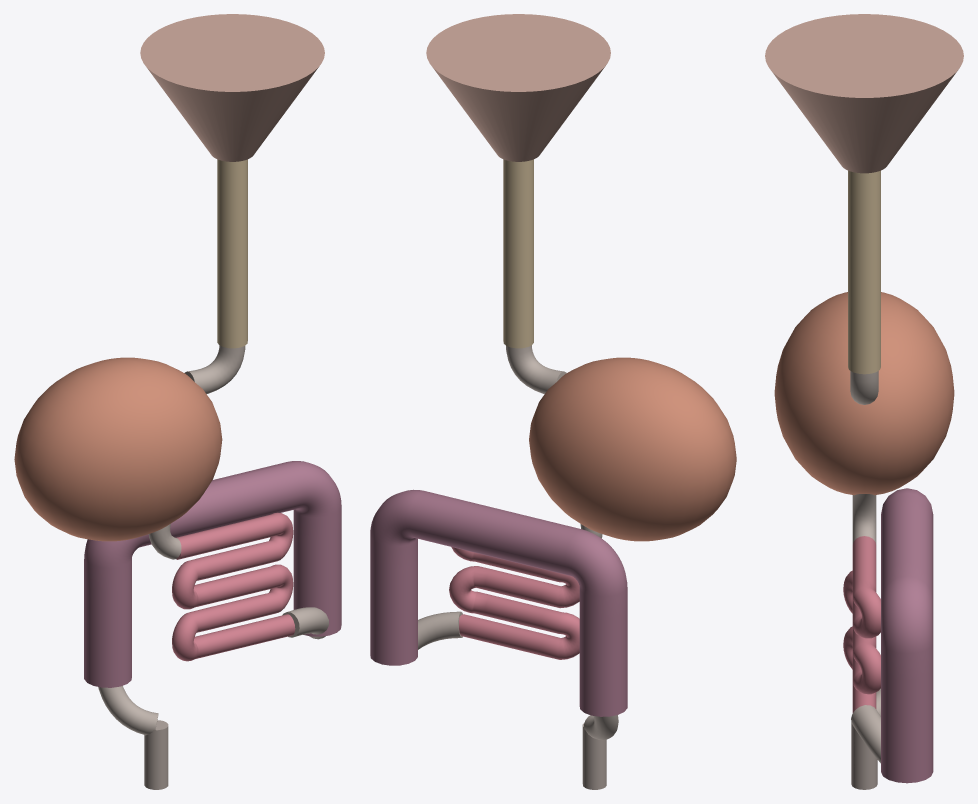
File: strecke.glb
3 views of the same model, side by side, from view 1: azimuth 30°, elevation 25°; view 2: azimuth 150°, elevation 25°; view 3: azimuth 270°, elevation 25° (orthographic). The views are drawn at different scales.
Parts seen in each view (by area): view 1: station_3, station_5, station_1, station_4, station_2, station_6, verbindung_56, verbindung_23, verbindung_45, verbindung_34; view 2: station_3, station_5, station_1, station_4, station_2, verbindung_23, station_6, verbindung_45, verbindung_56; view 3: station_3, station_1, station_5, station_2, station_4, station_6, verbindung_34, verbindung_45, verbindung_23.
Part boxes in pixels (x1,y1,x2,y2): station_3: (14,357,222,541); station_5: (84,461,341,687); station_1: (140,14,324,161); station_4: (172,512,295,661); station_2: (217,159,247,348); station_6: (144,720,168,789); verbindung_56: (98,685,158,735); verbindung_23: (184,345,245,393); verbindung_45: (282,607,328,639); verbindung_34: (148,524,181,559); station_3: (529,357,736,541); station_5: (370,489,627,716); station_1: (426,14,610,161); station_4: (449,547,579,659); station_2: (503,159,533,348); verbindung_23: (506,345,566,394); station_6: (582,722,606,789); verbindung_45: (418,611,462,649); verbindung_56: (584,715,618,740); station_3: (774,292,954,495); station_1: (765,14,963,173); station_5: (881,488,933,783); station_2: (848,170,880,374); station_4: (843,536,880,712); station_6: (851,722,877,789); verbindung_34: (852,494,876,544); verbindung_45: (851,705,880,763); verbindung_23: (850,371,878,404).
Size of the model in its own units: 1.76 by 3.58 by 0.84.
